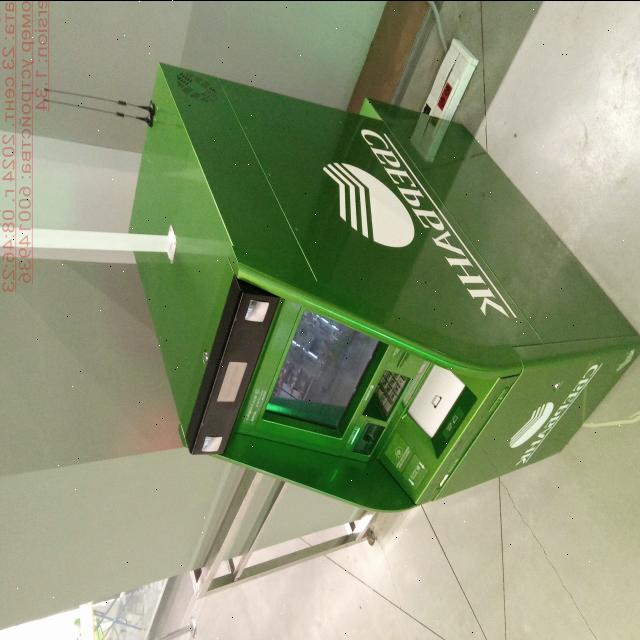bank: (121, 61, 640, 513)
